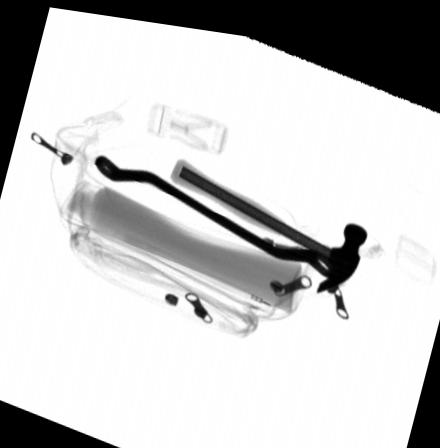Hammer: (167, 149, 368, 287)
Wrench: (93, 148, 334, 267)
